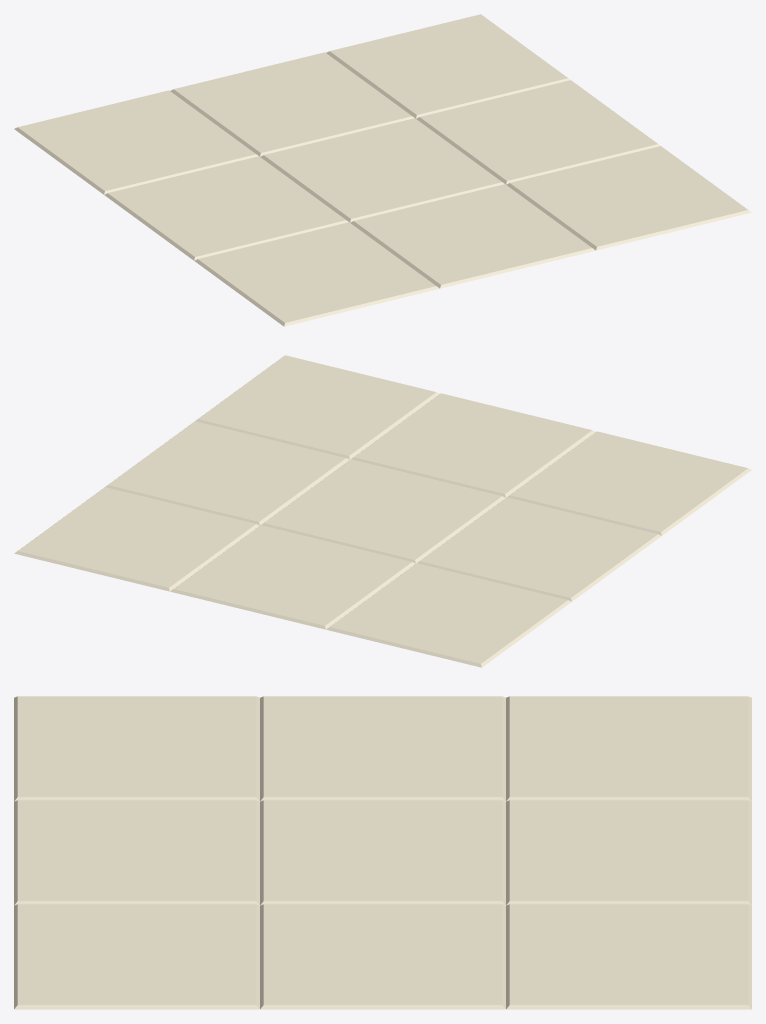
The model's file is SM_GroundModule.fbx.
The picture shows the model from 3 angles, top to bottom: view 1: azimuth 30°, elevation 25°; view 2: azimuth 150°, elevation 25°; view 3: azimuth 270°, elevation 25°; orthographic projection. The views are drawn at different scales.
Parts seen in each view (by area): view 1: Plane.001; view 2: Plane.001; view 3: Plane.001.
Boxes of the visible parts, <box> form: Plane.001: <box>14,14,751,326</box>; Plane.001: <box>14,355,751,667</box>; Plane.001: <box>14,696,751,1009</box>.
Size of the model in its own units: 600 by 600 by 2.75.
